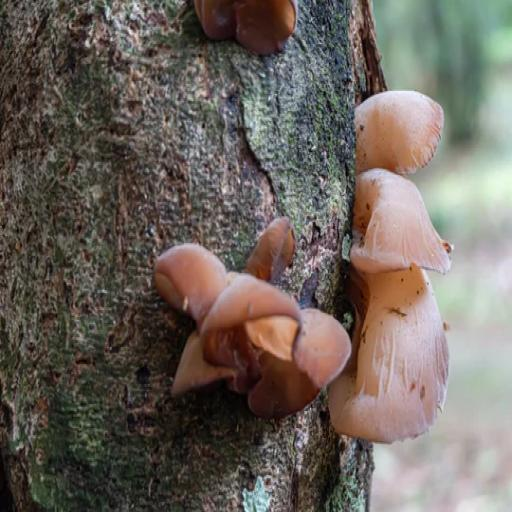mushroom: (157, 226, 351, 429), (322, 264, 451, 439), (352, 158, 453, 278), (350, 88, 446, 176), (191, 1, 301, 52)
